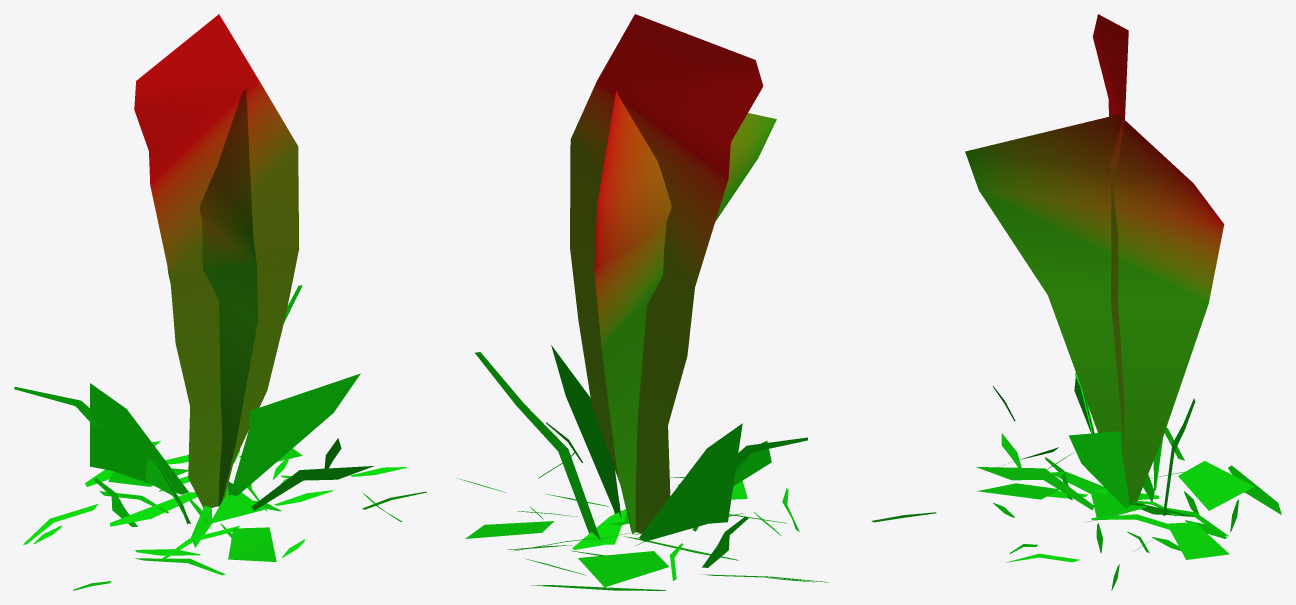
File: Dead Shrubs_LOD2_Var8_vdknafgha.fbx
3 renders of one model, left to right at view 1: azimuth 30°, elevation 25°; view 2: azimuth 150°, elevation 25°; view 3: azimuth 270°, elevation 25°, orthographic. The views are drawn at different scales.
Visible parts, largest first — view 1: _6d03_Var8_LOD2; view 2: _6d03_Var8_LOD2; view 3: _6d03_Var8_LOD2.
Boxes of the visible parts, x1=… form: _6d03_Var8_LOD2: x1=14, y1=14, x2=426, y2=590; _6d03_Var8_LOD2: x1=456, y1=14, x2=936, y2=590; _6d03_Var8_LOD2: x1=965, y1=14, x2=1281, y2=590.
Bounding box in the file's own units: 28.1 × 34.07 × 20.13.
